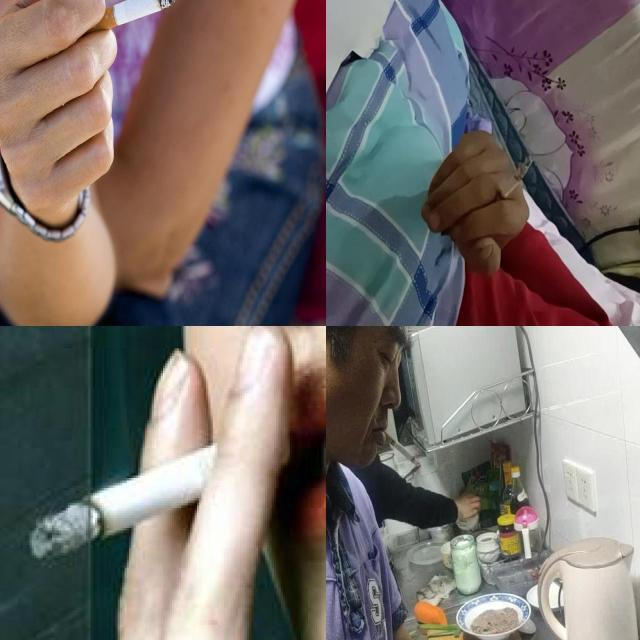smoking: (30, 426, 292, 564), (63, 0, 179, 40), (488, 154, 534, 212), (382, 431, 420, 466)
